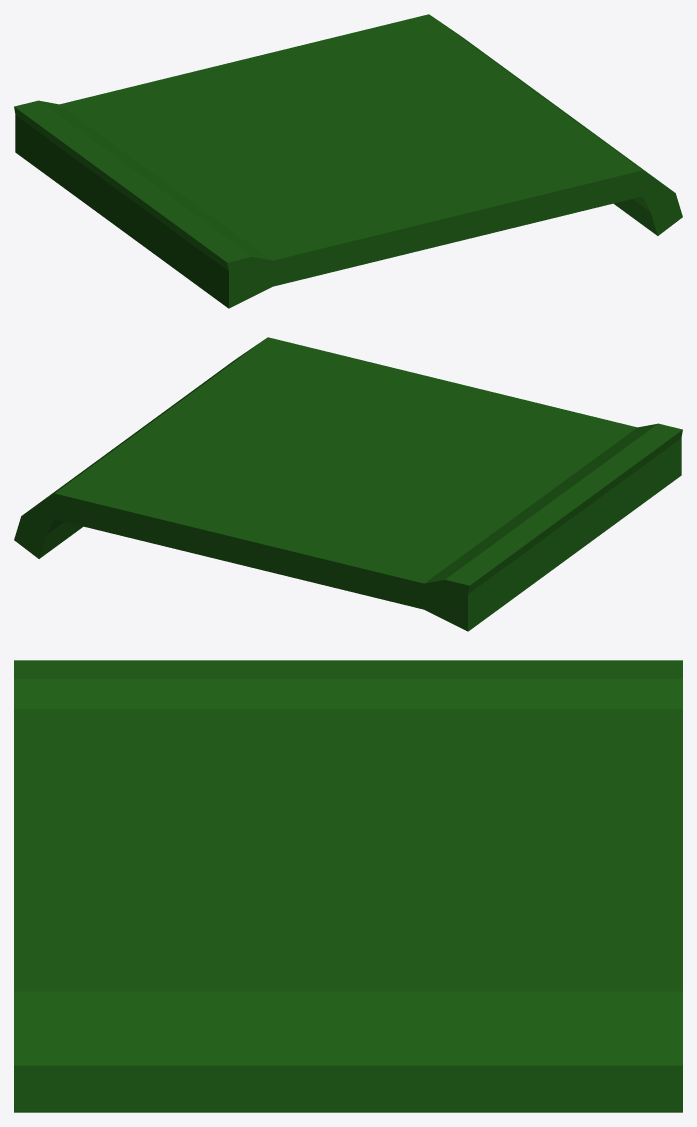
Rendered from GrassPlatform.fbx.
The picture shows the model from 3 angles, top to bottom: view 1: azimuth 30°, elevation 25°; view 2: azimuth 150°, elevation 25°; view 3: azimuth 270°, elevation 25°; orthographic projection. The views are drawn at different scales.
Visible parts, largest first — view 1: Cube; view 2: Cube; view 3: Cube.
Boxes of the visible parts, <box> form: Cube: <box>14,14,682,308</box>; Cube: <box>14,337,682,631</box>; Cube: <box>14,660,682,1112</box>.
Bounding box in the file's own units: 1169 × 193 × 949.
